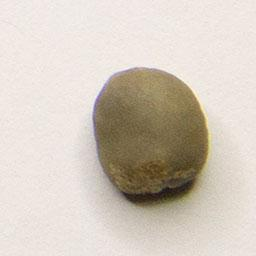peaberry: (90, 63, 213, 202)
